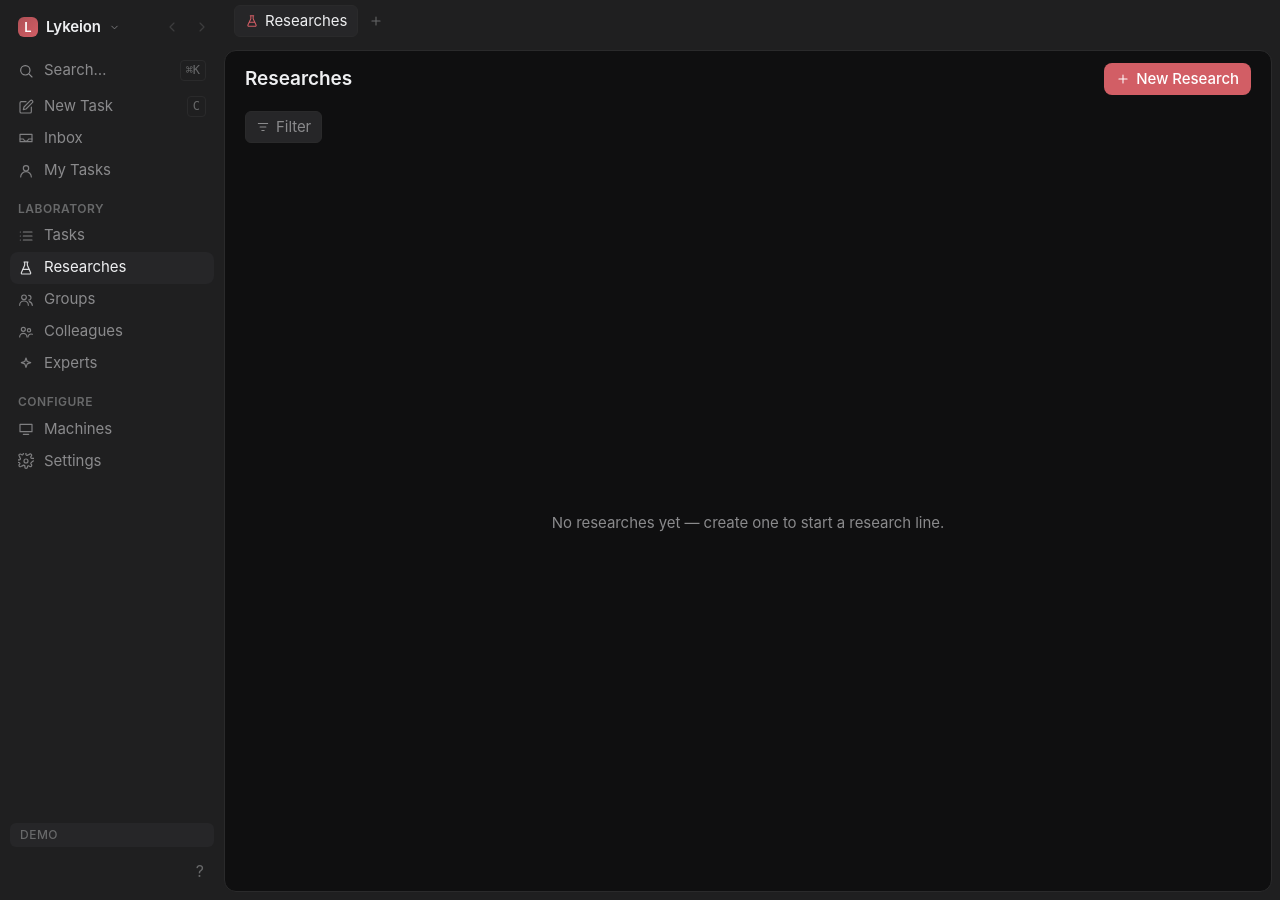
Scenario: renders the settings nav and the General tab's lab sections
The width and height of the screenshot is (1280, 900).
Click the link "Settings". click: click(60, 460)
box: x1=18 y1=451 x2=101 y2=470
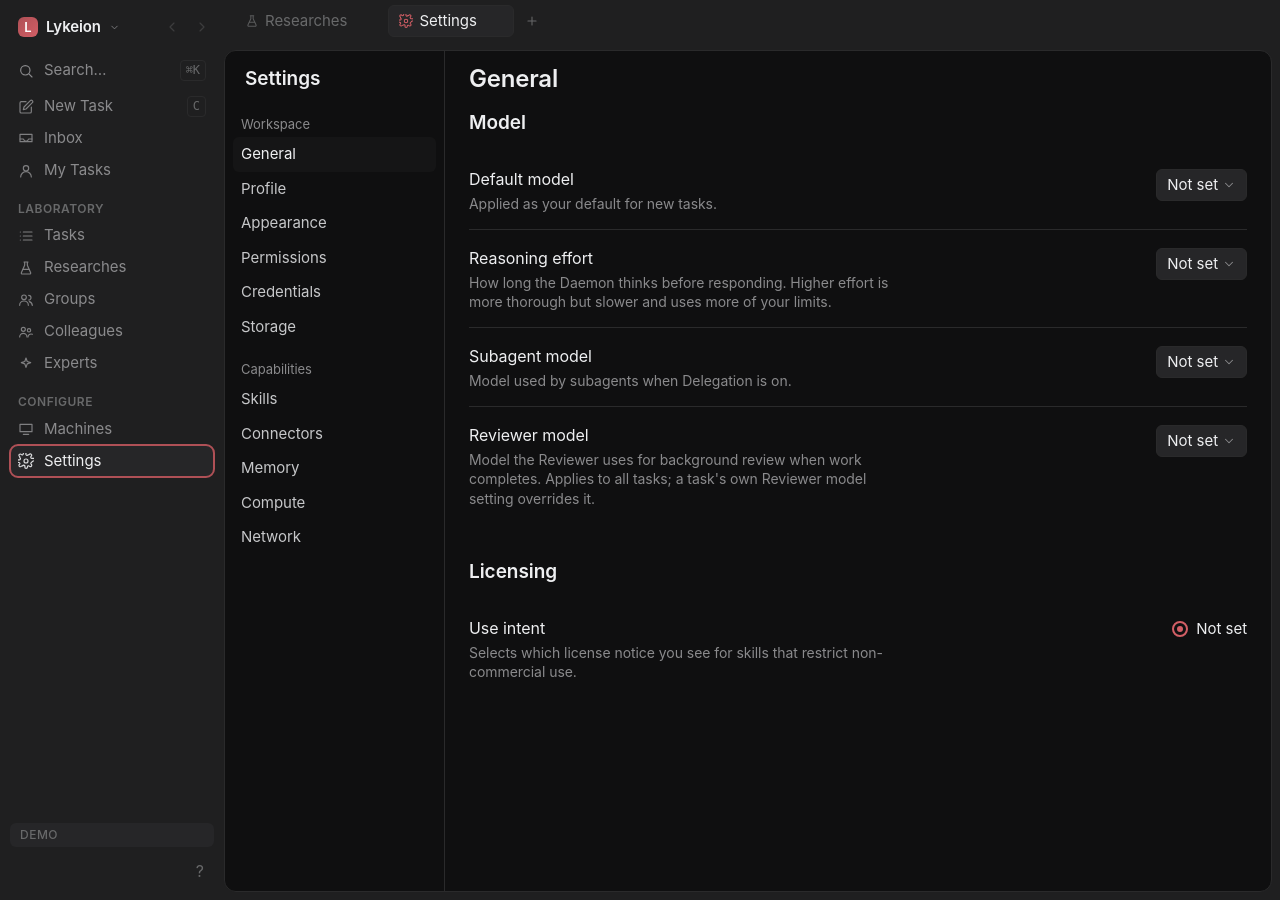
Check: the text "Capabilities" is shown, box x1=241 y1=361 x2=312 y2=377
Check: the button "Credentials" is shown, box x1=233 y1=275 x2=436 y2=310
Check: the heading "General" is shown, box x1=469 y1=65 x2=558 y2=93
